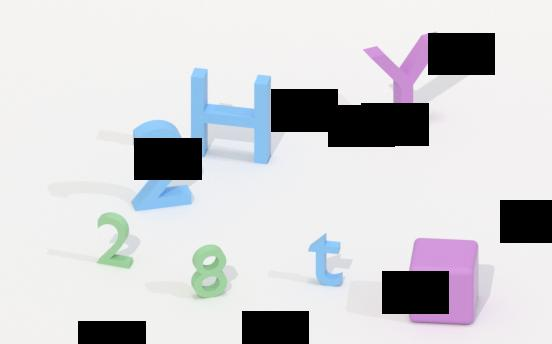2: (128, 121, 195, 214), (93, 208, 140, 274)
8: (186, 241, 235, 301)
H-hoa: (186, 66, 274, 167)
Y-hoa: (361, 28, 447, 131)
hop: (406, 235, 487, 324)
t: (306, 234, 346, 290)
